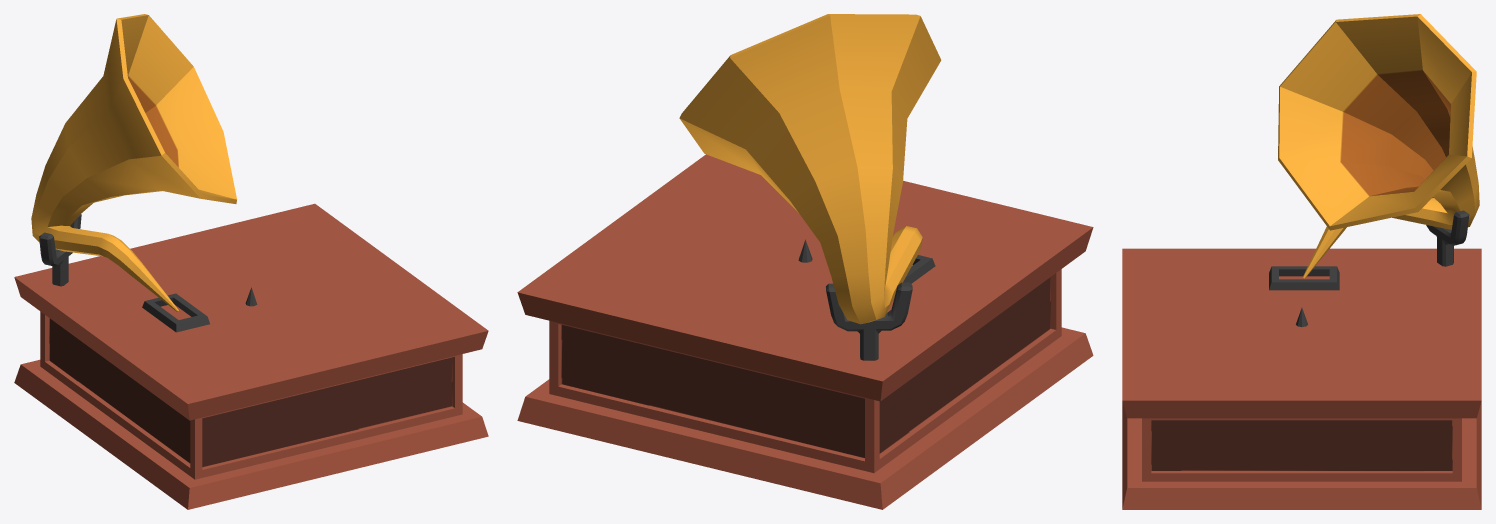
The model's file is gramophone.fbx.
3 renders of one model, left to right at view 1: azimuth 30°, elevation 25°; view 2: azimuth 150°, elevation 25°; view 3: azimuth 270°, elevation 25°, orthographic. The views are drawn at different scales.
Visible parts, largest first — view 1: gramophone; view 2: gramophone; view 3: gramophone.
Part boxes in pixels (x1,y1,x2,y2): gramophone: [14, 14, 488, 509]; gramophone: [517, 14, 1093, 509]; gramophone: [1122, 14, 1481, 509].
Bounding box in the file's own units: 69.98 × 81.82 × 69.98.
